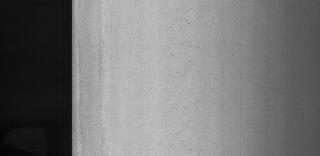silk spot: (154, 0, 222, 148)
